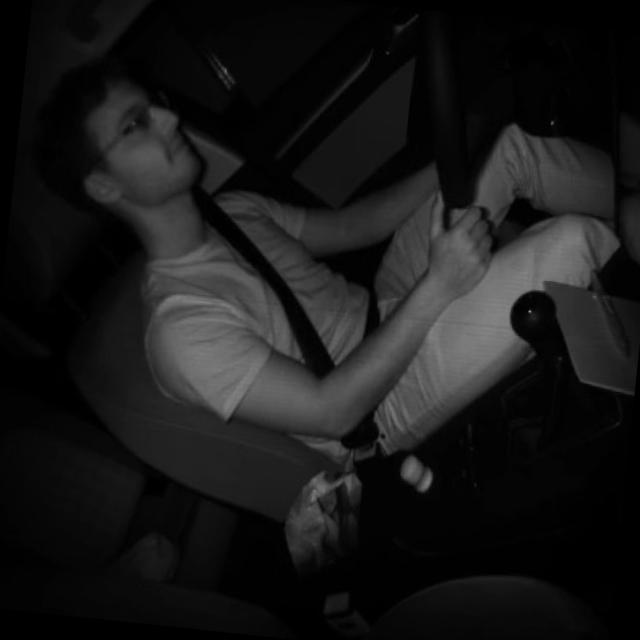pen: (579, 265, 640, 363)
